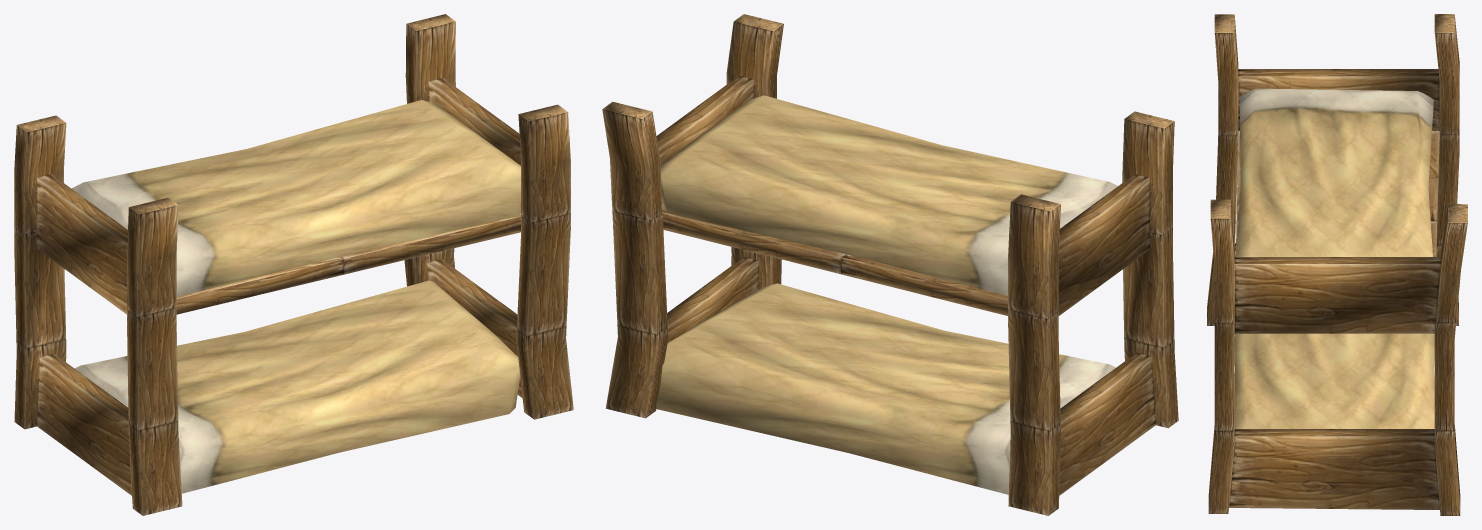
File: bunkbed01.obj
3 renders of one model, left to right at view 1: azimuth 30°, elevation 25°; view 2: azimuth 150°, elevation 25°; view 3: azimuth 270°, elevation 25°, orthographic. The views are drawn at different scales.
Parts seen in each view (by area): view 1: Geoset1, Geoset0, Geoset2; view 2: Geoset1, Geoset0, Geoset2; view 3: Geoset0, Geoset1, Geoset2.
Boxes of the visible parts, left/top/right/bottom form: Geoset1: left=71, top=100, right=520, bottom=493; Geoset0: left=14, top=21, right=573, bottom=515; Geoset2: left=17, top=14, right=567, bottom=214; Geoset1: left=656, top=95, right=1117, bottom=494; Geoset0: left=602, top=21, right=1178, bottom=515; Geoset2: left=602, top=14, right=1174, bottom=211; Geoset0: left=1207, top=15, right=1467, bottom=515; Geoset1: left=1234, top=88, right=1434, bottom=428; Geoset2: left=1210, top=14, right=1467, bottom=222.
Size of the model in its own units: 5.27 by 3.45 by 2.78.
Materials: 3 (3 with a texture image).
